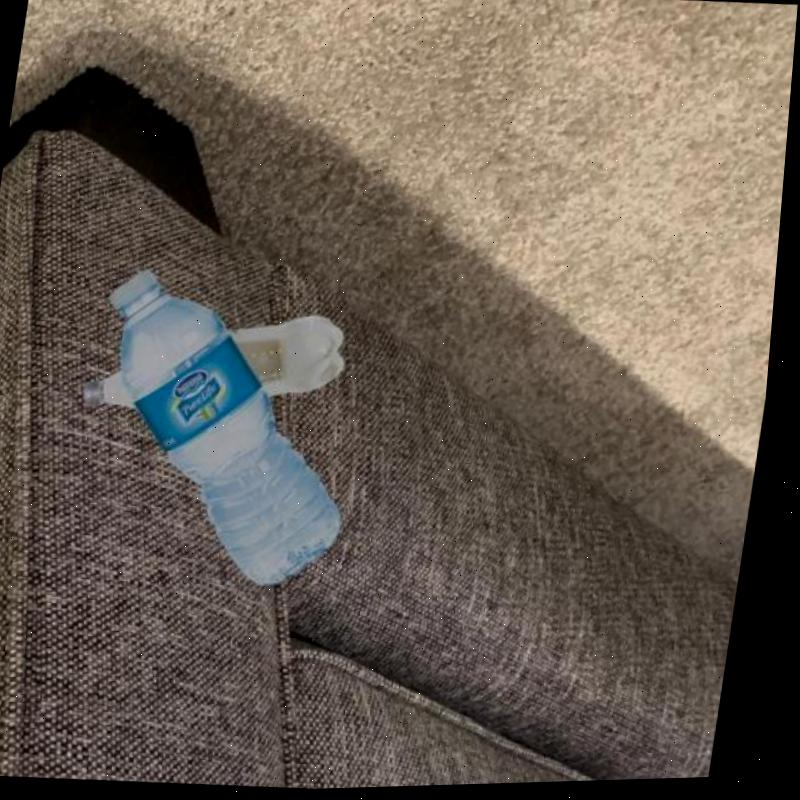botella: (72, 257, 386, 599), (84, 297, 357, 431)
